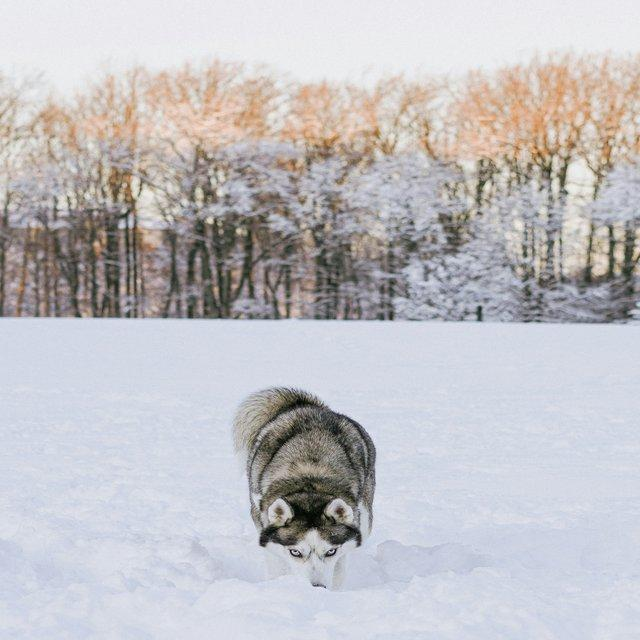husky: (230, 384, 376, 591)
